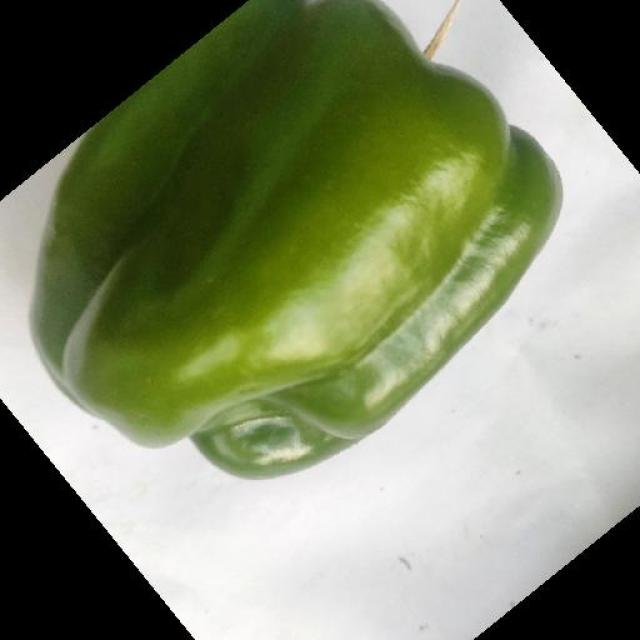Fresh_Capsicum: (35, 18, 532, 440)
